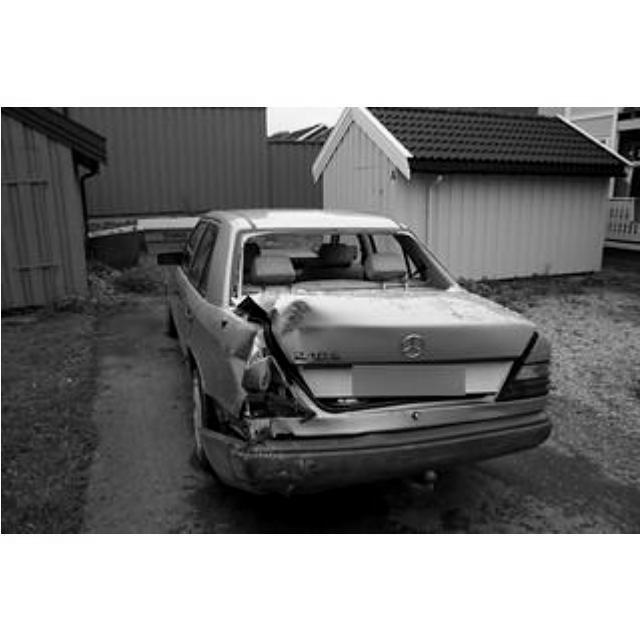Taillight-Damage: (227, 365, 323, 453)
boot-dent: (235, 277, 435, 387)
